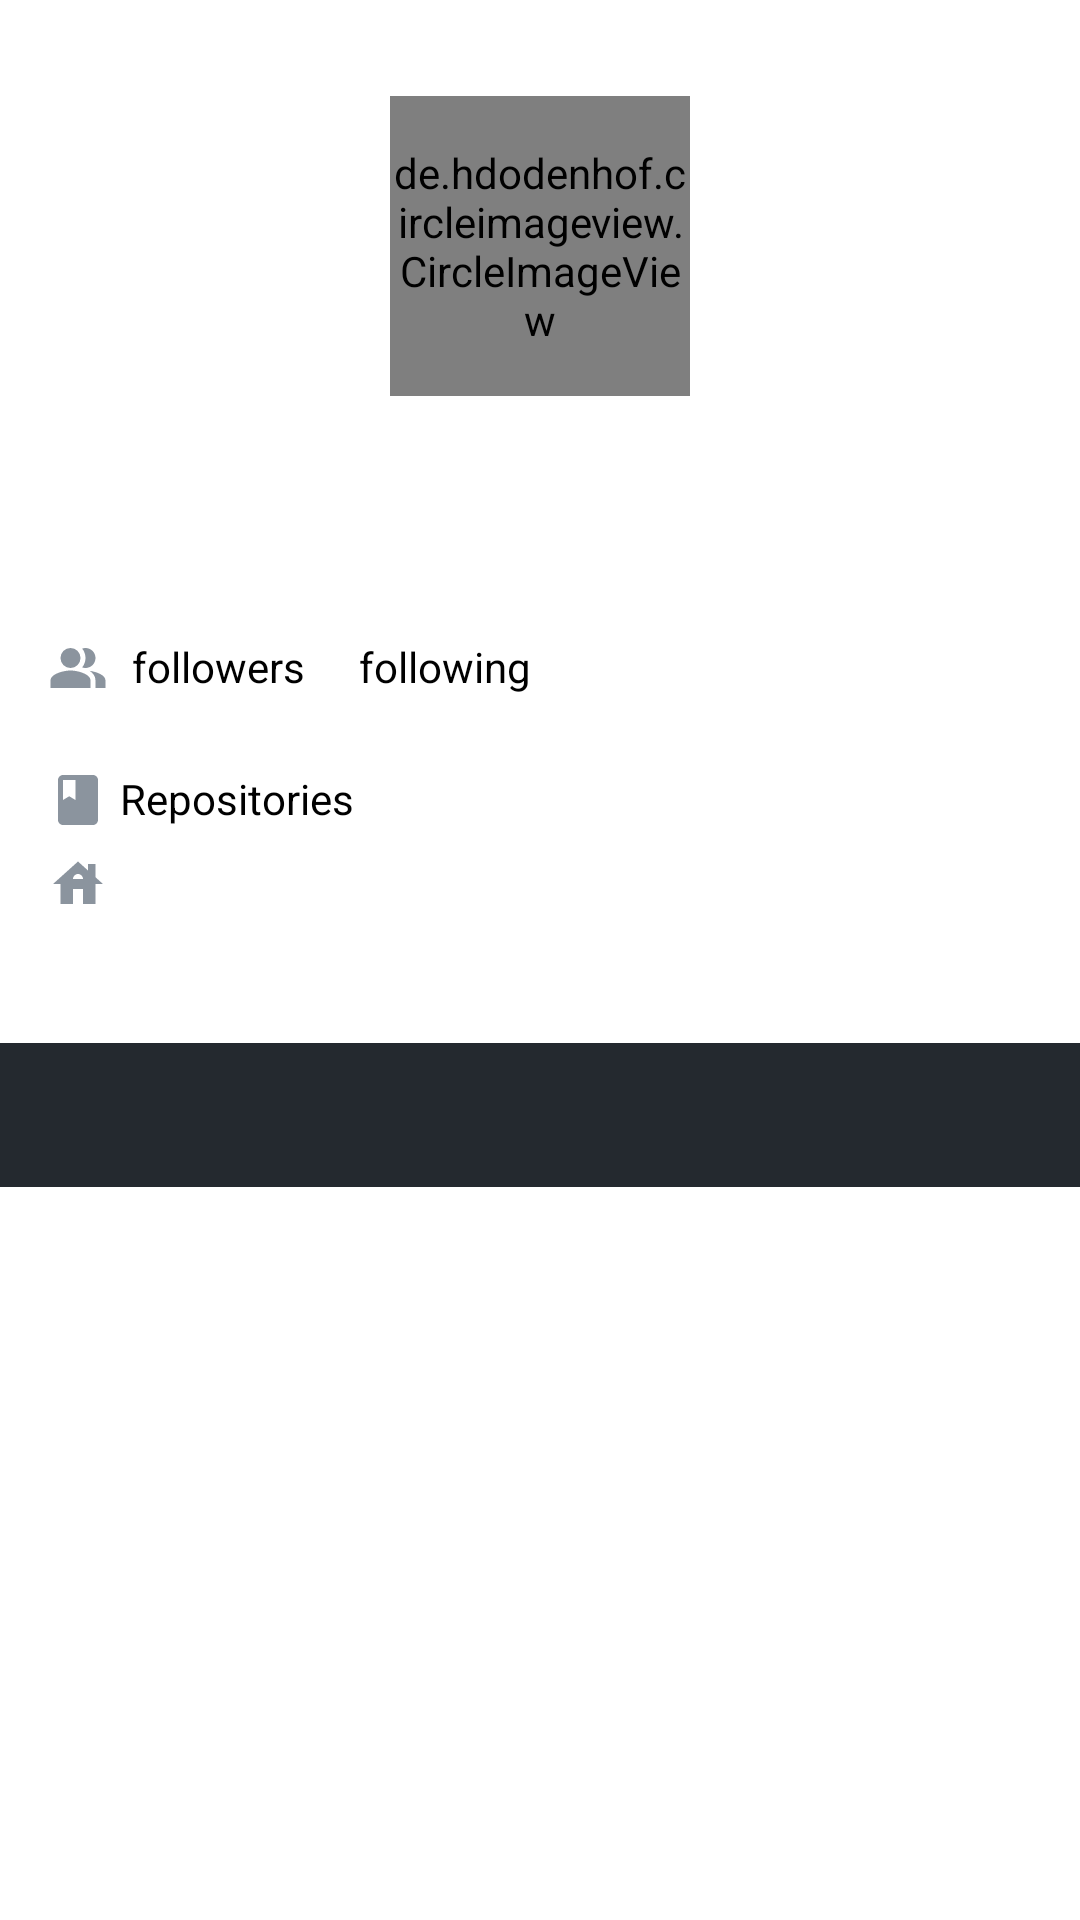

Point at icon controls on the screen. Image size 1080w x 1920h, points as [x,y].
book: [78,800]
house: [78,883]
people: [78,668]
